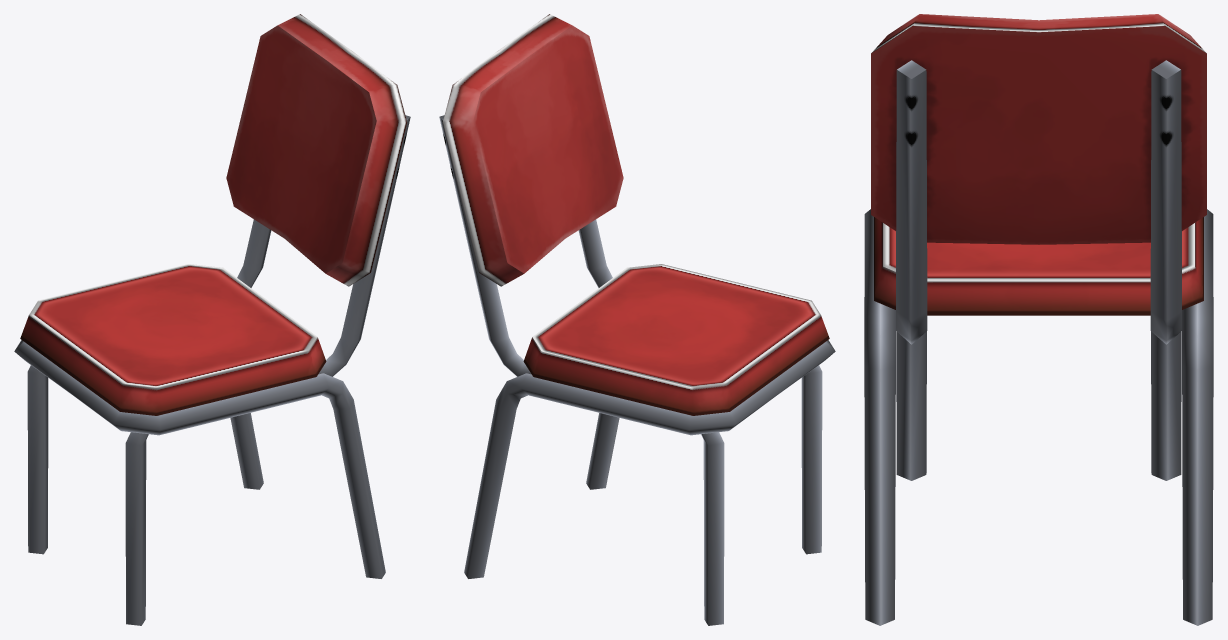
Rendered from chair05.fbx.
The picture shows the model from 3 angles, left to right: view 1: azimuth 30°, elevation 25°; view 2: azimuth 150°, elevation 25°; view 3: azimuth 270°, elevation 25°; orthographic projection. The views are drawn at different scales.
Visible parts, largest first — view 1: chair05; view 2: chair05; view 3: chair05.
Part boxes in pixels (box(x1,y1,x2,y2)): chair05: box(14, 14, 410, 625); chair05: box(439, 14, 835, 625); chair05: box(864, 14, 1213, 625).
Size of the model in its own units: 62.48 by 94.62 by 48.68.
